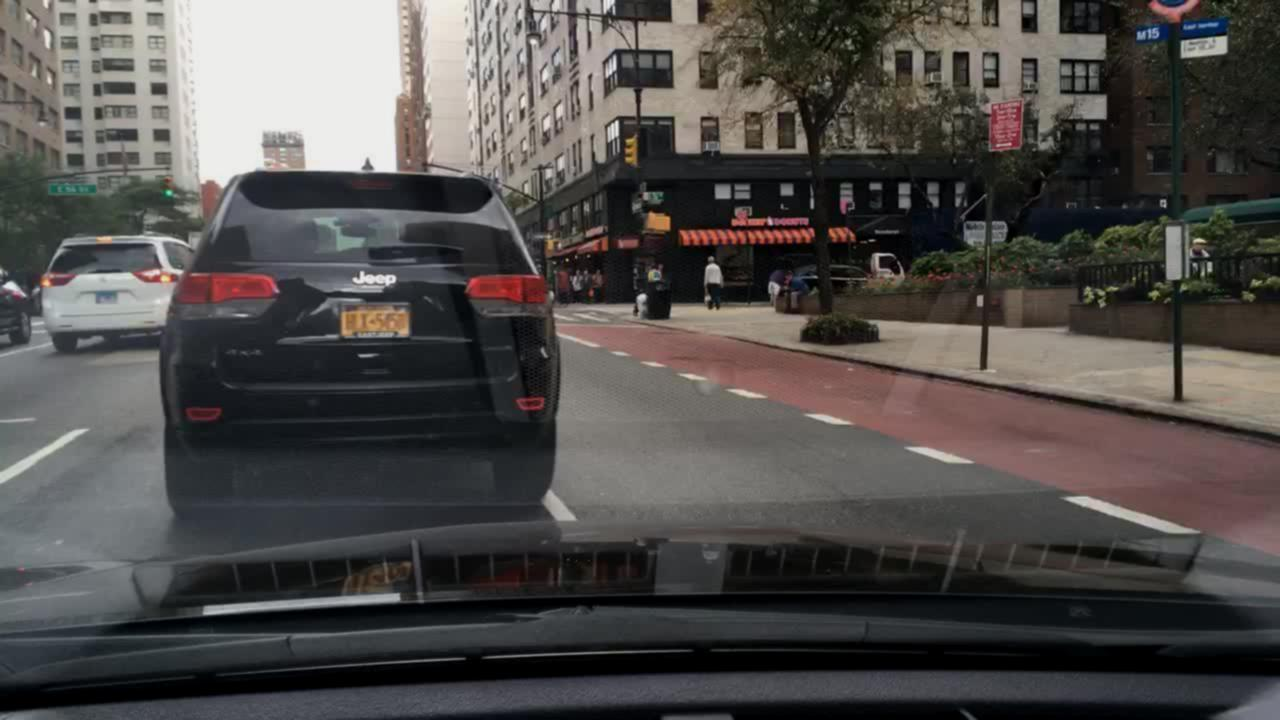jeep: (343, 258, 415, 299)
